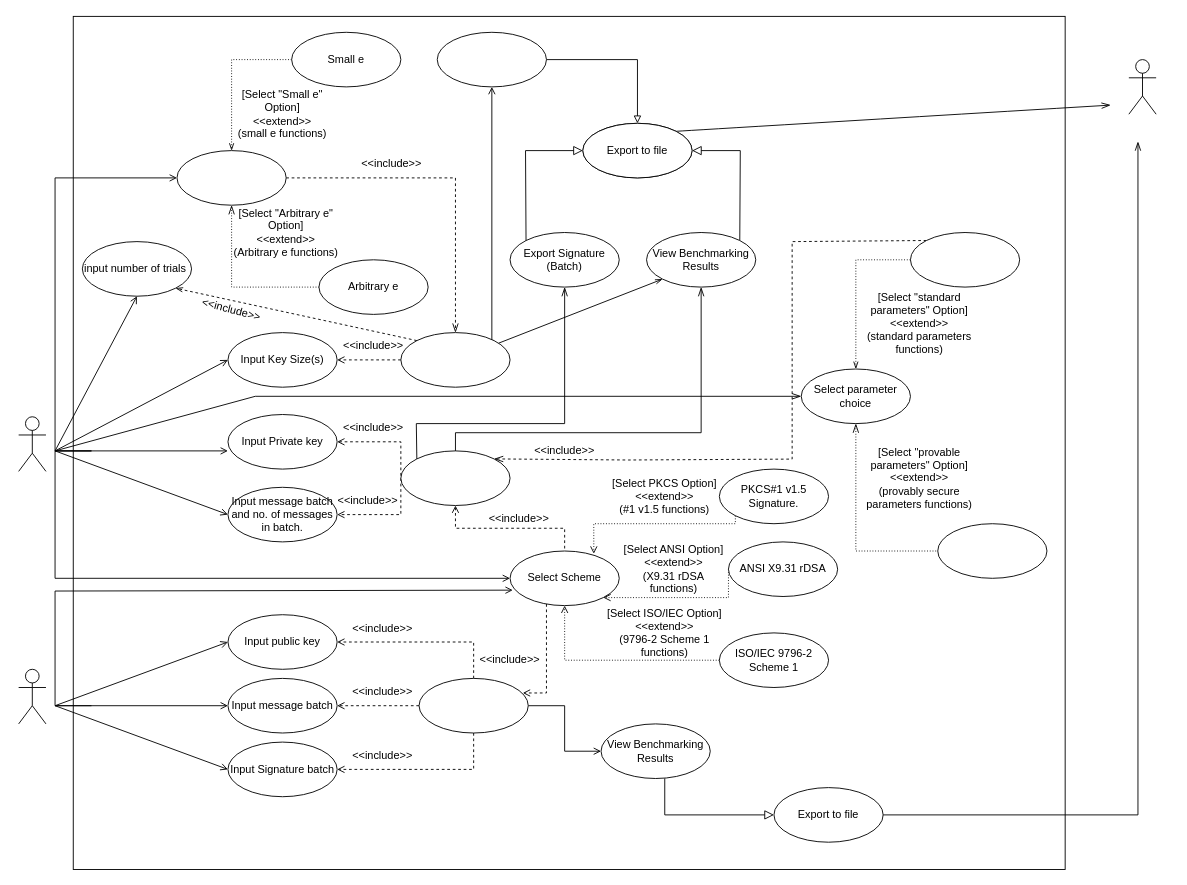
Image size: 1187x885. Some labels were removed from this diagram. Each missing label, with the centre of its shape:
"Export Key Pair (batches)" goes at [491,59].
"File System" goes at [1142,86].
"provably secure parameters" goes at [992,550].
"Run Key Generation Benchmarking" goes at [455,359].
"Run Signature Creation Benchmarking" goes at [455,478].
"Run Signature Verification Benchmarking" goes at [473,705].
"Select e" goes at [231,177].
"Signer" goes at [32,443].
"standard parameters" goes at [965,259].
"Verifier" goes at [32,696].
